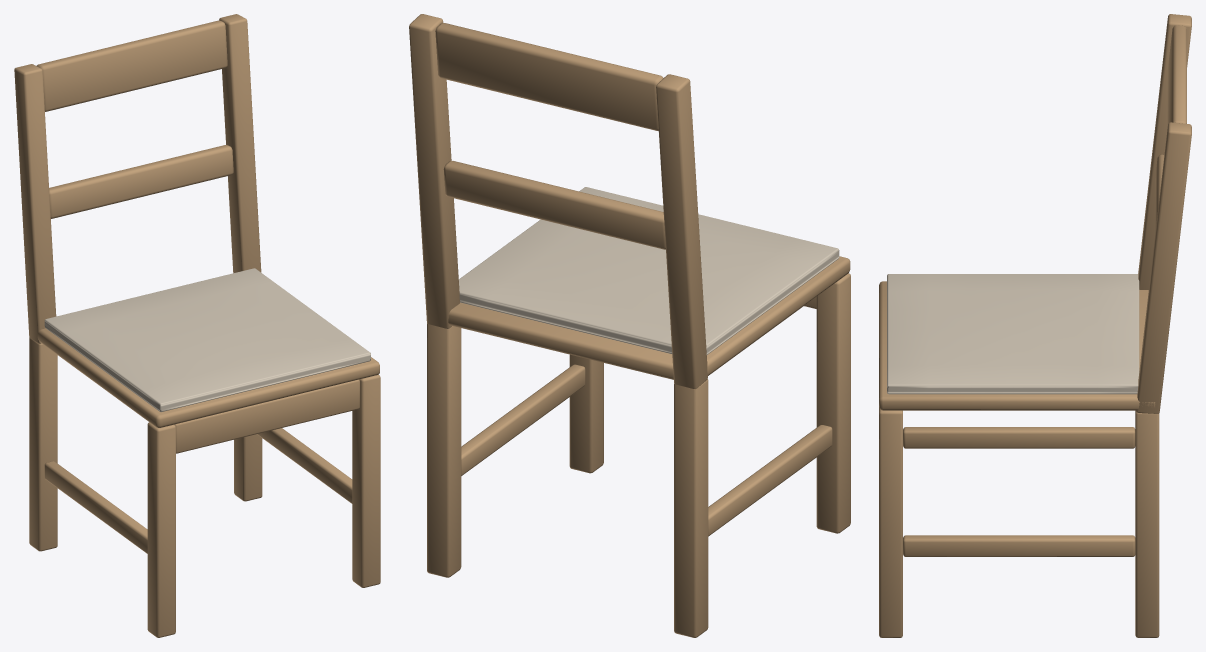
The model's file is chair-1.glb.
3 renders of one model, left to right at view 1: azimuth 30°, elevation 25°; view 2: azimuth 150°, elevation 25°; view 3: azimuth 270°, elevation 25°, orthographic. The views are drawn at different scales.
Visible parts, largest first — view 1: Chair; view 2: Chair; view 3: Chair.
Boxes of the visible parts, <box> form: Chair: <box>14,14,380,637</box>; Chair: <box>409,14,850,637</box>; Chair: <box>879,14,1191,637</box>.
Bounding box in the file's own units: 0.42 × 0.8389 × 0.4686.
